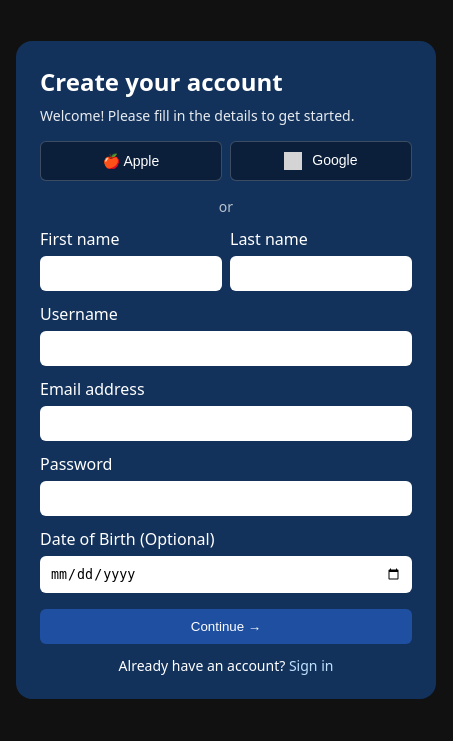
Register Component › Form Validation › validates username cannot contain spaces
In the field below "First name": (131, 274) [40,256,222,291], type "John"
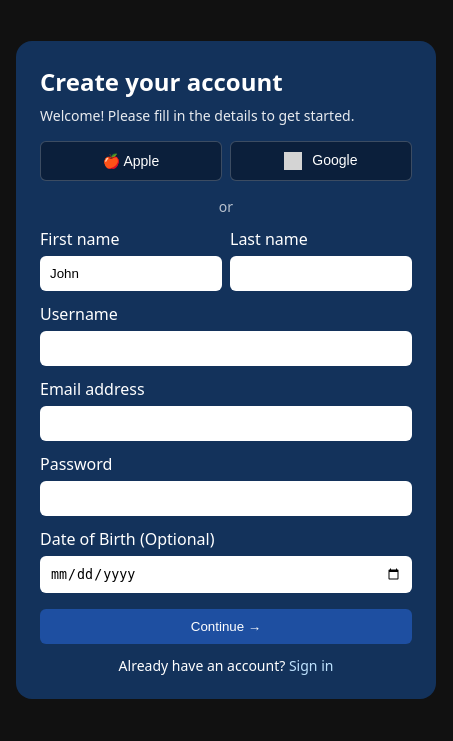
In the field below "Last name": (321, 274) [230,256,412,291], type "Doe"
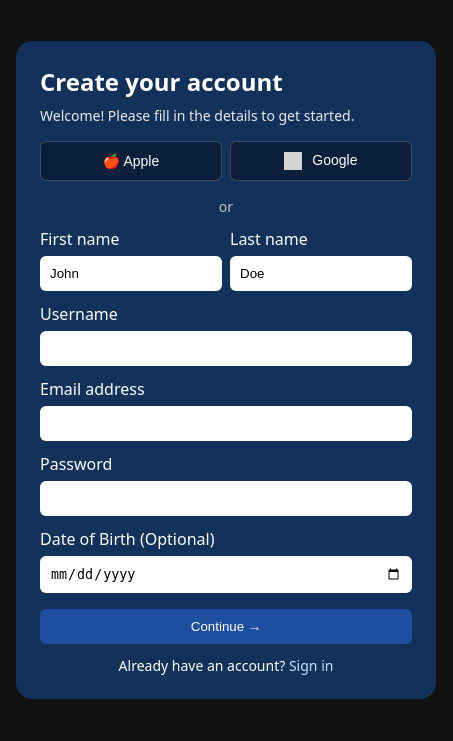
In the 3rd field: (226, 348) [40,331,412,366], type "john doe"
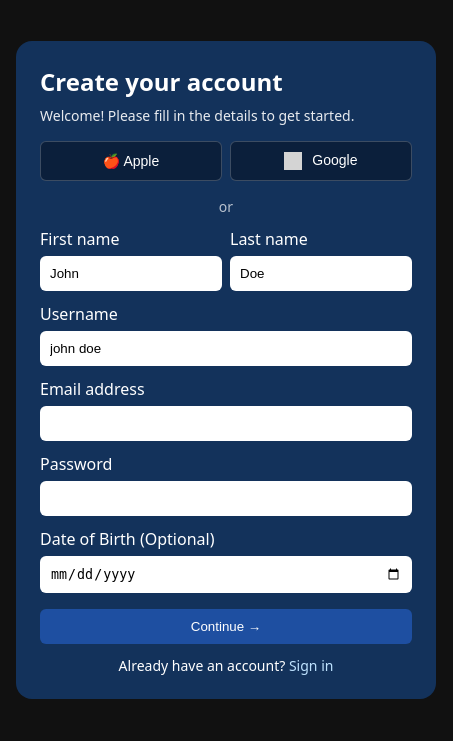
In the 4th field: (226, 424) [40,406,412,441], type "john@example.com"
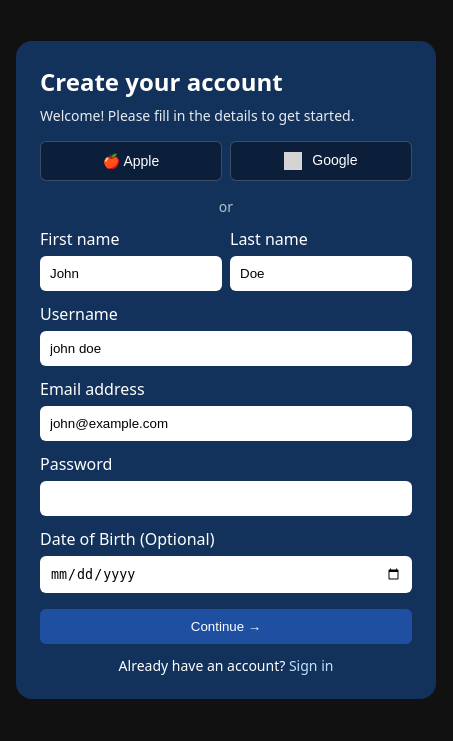
In the password field labelled "Password": (226, 498) [40,481,412,516], type "password123"
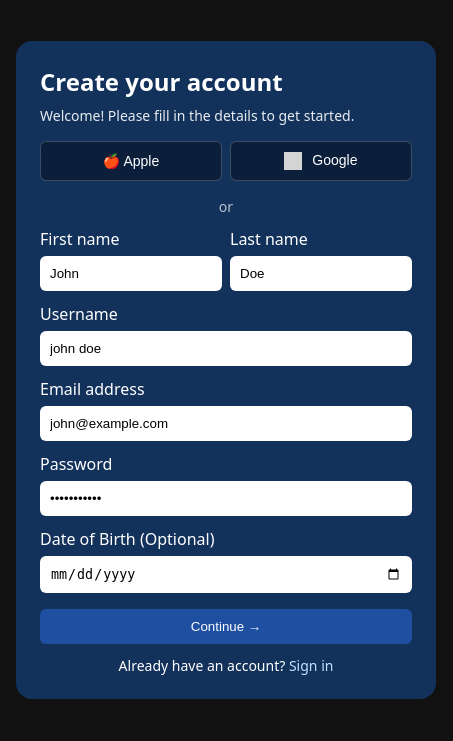
Click the button "Continue →": (226, 627) [40,609,412,644]
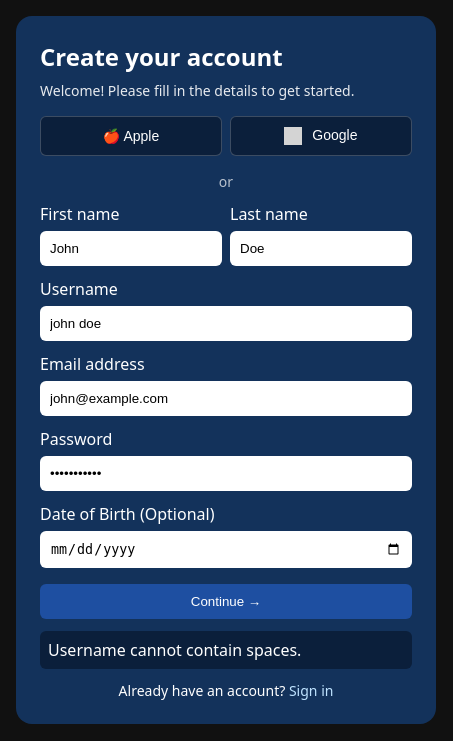
Expected: the text "Username cannot contain spaces." is shown, [40,631,412,669]
